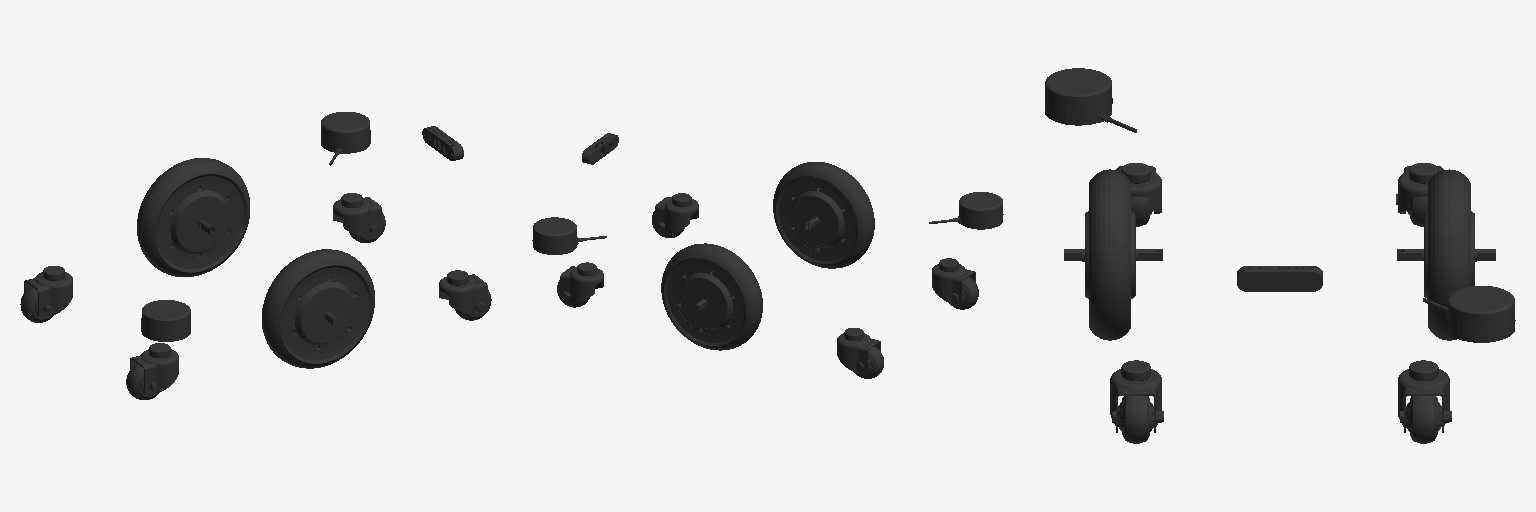
robot.urdf — chibot:
<?xml version="1.0" encoding="utf-8"?>
<!-- This URDF was automatically created by SolidWorks to URDF Exporter! Originally created by [author] ([email redacted]) 
     Commit Version: 1.6.0-4-g7f85cfe  Build Version: 1.6.7995.38578
     For more information, please see http://wiki.ros.org/sw_urdf_exporter -->
<robot
  name="chibot">

  <!-- name="xju" xmlns:xacro="http://ros.org/wiki/xacro">
  <xacro:include filename="$(find xju_simu)/urdf/xju_model.gazebo.xacro"/>
  <xacro:include filename="$(find xju_simu)/urdf/common_properties.xacro"/> -->

  <!-- base_footprint -->
  <link name="dummy"> 
  </link>
  <joint name="dummy_joint" type="fixed">
     <parent link="dummy"/>
     <child link="base_link"/>
  </joint>

  <!-- Body -->
  <link
    name="base_link">
    <inertial>
      <origin
        xyz="0.0044124 -0.00027975 0.1241"
        rpy="0 0 0" />
      <mass
        value="4.6045" />
      <inertia
        ixx="0.139"
        ixy="0.0011386"
        ixz="0.0064912"
        iyy="0.16792"
        iyz="9.8084E-05"
        izz="0.27613" />
    </inertial>
    <visual>
      <origin
        xyz="0 0 0"
        rpy="0 0 0" />
      <geometry>
        <mesh
          filename="package://chibot_simu/meshes/base_link.STL" />
      </geometry>
      <material
        name="">
        <color
          rgba="0.48627 0.48627 0.48627 1" />
      </material>
    </visual>
    <collision>
      <origin
        xyz="0 0 0"
        rpy="0 0 0" />
      <geometry>
        <mesh
          filename="package://chibot_simu/meshes/base_link.STL" />
      </geometry>
    </collision>
  </link>

  <!-- Wheel -->
  <link
    name="left_wheel_link">
    <inertial>
      <origin
        xyz="1.2292E-07 0.00016165 1.8491E-06"
        rpy="0 0 0" />
      <mass
        value="1.3933" />
      <inertia
        ixx="0.0033662"
        ixy="-2.9042E-10"
        ixz="4.652E-10"
        iyy="0.0061746"
        iyz="-5.8108E-08"
        izz="0.0033662" />
    </inertial>
    <visual>
      <origin
        xyz="0 0 0"
        rpy="0 0 0" />
      <geometry>
        <mesh
          filename="package://chibot_simu/meshes/left_wheel_link.STL" />
      </geometry>
      <material
        name="">
        <color
          rgba="0.25098 0.25098 0.25098 1" />
      </material>
    </visual>
    <collision>
      <origin
        xyz="0 0 0"
        rpy="0 0 0" />
      <geometry>
        <mesh
          filename="package://chibot_simu/meshes/left_wheel_link.STL" />
      </geometry>
    </collision>
  </link>
  <joint
    name="left_wheel_joint"
    type="continuous">
    <origin
      xyz="0 0.197750089477289 0.0657474186290643"
      rpy="0 0 0" />
    <parent
      link="base_link" />
    <child
      link="left_wheel_link" />
    <axis
      xyz="0 -1 0" />
    <!-- <safety_controller
      k_velocity="0" /> -->
  </joint>

  <link
    name="right_wheel_link">
    <inertial>
      <origin
        xyz="7.93745574977071E-08 -0.000161637742527587 1.87787913173698E-06"
        rpy="0 0 0" />
      <mass
        value="1.39328218611758" />
      <inertia
        ixx="0.00336620767487001"
        ixy="-2.90582469203531E-10"
        ixz="-4.65203502548127E-10"
        iyy="0.00617464497092101"
        iyz="5.81072376518096E-08"
        izz="0.00336617210974771" />
    </inertial>
    <visual>
      <origin
        xyz="0 0 0"
        rpy="0 0 0" />
      <geometry>
        <mesh
          filename="package://chibot_simu/meshes/right_wheel_link.STL" />
      </geometry>
      <material
        name="">
        <color
          rgba="0.250980392156863 0.250980392156863 0.250980392156863 1" />
      </material>
    </visual>
    <collision>
      <origin
        xyz="0 0 0"
        rpy="0 0 0" />
      <geometry>
        <mesh
          filename="package://chibot_simu/meshes/right_wheel_link.STL" />
      </geometry>
    </collision>
  </link>
  <joint
    name="right_wheel_joint"
    type="continuous">
    <origin
      xyz="0 -0.198170089477289 0.0657474186290642"
      rpy="0 0 0" />
    <parent
      link="base_link" />
    <child
      link="right_wheel_link" />
    <axis
      xyz="0 -1 0" />
    <!-- <safety_controller
      k_velocity="0" /> -->
  </joint>
  <link
    name="lf_caster_link">
    <inertial>
      <origin
        xyz="0.0065258 0.00029042 -0.018571"
        rpy="0 0 0" />
      <mass
        value="0.30041" />
      <inertia
        ixx="0.00020331"
        ixy="-1.7276E-06"
        ixz="3.8386E-05"
        iyy="0.00018743"
        iyz="2.5407E-06"
        izz="0.00019452" />
    </inertial>
    <visual>
      <origin
        xyz="0 0 0"
        rpy="0 0 0" />
      <geometry>
        <mesh
          filename="package://chibot_simu/meshes/lf_caster_link.STL" />
      </geometry>
      <material
        name="">
        <color
          rgba="0.25098 0.25098 0.25098 1" />
      </material>
    </visual>
    <collision>
      <origin
        xyz="0 0 0"
        rpy="0 0 0" />
      <geometry>
        <mesh
          filename="package://chibot_simu/meshes/lf_caster_link.STL" />
      </geometry>
    </collision>
  </link>
  <joint
    name="lf_caster_joint"
    type="continuous">
    <origin
      xyz="0.273 0.16775000000001 0.04495"
      rpy="0 0 0" />
    <parent
      link="base_link" />
    <child
      link="lf_caster_link" />
    <axis
      xyz="0 0 1" />
    <!-- <safety_controller
      k_velocity="0" /> -->
  </joint>
  <link
    name="lf_caster_link_">
    <inertial>
      <origin
        xyz="-3.0896E-07 -4.7895E-07 -1.2751E-09"
        rpy="0 0 0" />
      <mass
        value="0.09234" />
      <inertia
        ixx="2.7639E-05"
        ixy="2.5872E-11"
        ixz="5.199E-13"
        iyy="3.8572E-05"
        iyz="1.5634E-10"
        izz="2.766E-05" />
    </inertial>
    <visual>
      <origin
        xyz="0 0 0"
        rpy="0 0 0" />
      <geometry>
        <mesh
          filename="package://chibot_simu/meshes/lf_caster_link_.STL" />
      </geometry>
      <material
        name="">
        <color
          rgba="0.25098 0.25098 0.25098 1" />
      </material>
    </visual>
    <collision>
      <origin
        xyz="0 0 0"
        rpy="0 0 0" />
      <geometry>
        <mesh
          filename="package://chibot_simu/meshes/lf_caster_link_.STL" />
      </geometry>
    </collision>
  </link>
  <joint
    name="lf_caster_joint_"
    type="continuous">
    <origin
      xyz="0.026500000000015 0 -0.047700000000003"
      rpy="0 0 0" />
    <parent
      link="lf_caster_link" />
    <child
      link="lf_caster_link_" />
    <axis
      xyz="0 -1 0" />
    <!-- <safety_controller
      k_velocity="0" /> -->
  </joint>
  <link
    name="lb_caster_link">
    <inertial>
      <origin
        xyz="-0.0065258 -0.00029042 -0.018571"
        rpy="0 0 0" />
      <mass
        value="0.30041" />
      <inertia
        ixx="0.00020331"
        ixy="-1.7276E-06"
        ixz="-3.8386E-05"
        iyy="0.00018743"
        iyz="-2.5407E-06"
        izz="0.00019452" />
    </inertial>
    <visual>
      <origin
        xyz="0 0 0"
        rpy="0 0 0" />
      <geometry>
        <mesh
          filename="package://chibot_simu/meshes/lb_caster_link.STL" />
      </geometry>
      <material
        name="">
        <color
          rgba="0.25098 0.25098 0.25098 1" />
      </material>
    </visual>
    <collision>
      <origin
        xyz="0 0 0"
        rpy="0 0 0" />
      <geometry>
        <mesh
          filename="package://chibot_simu/meshes/lb_caster_link.STL" />
      </geometry>
    </collision>
  </link>
  <joint
    name="lb_caster_joint"
    type="continuous">
    <origin
      xyz="-0.273 0.16775000000001 0.04495"
      rpy="0 0 0" />
    <parent
      link="base_link" />
    <child
      link="lb_caster_link" />
    <axis
      xyz="0 0 1" />
    <!-- <safety_controller
      k_velocity="0" /> -->
  </joint>
  <link
    name="lb_caster_link_">
    <inertial>
      <origin
        xyz="3.0896E-07 4.7895E-07 -1.2751E-09"
        rpy="0 0 0" />
      <mass
        value="0.09234" />
      <inertia
        ixx="2.7639E-05"
        ixy="2.5872E-11"
        ixz="-5.199E-13"
        iyy="3.8572E-05"
        iyz="-1.5634E-10"
        izz="2.766E-05" />
    </inertial>
    <visual>
      <origin
        xyz="0 0 0"
        rpy="0 0 0" />
      <geometry>
        <mesh
          filename="package://chibot_simu/meshes/lb_caster_link_.STL" />
      </geometry>
      <material
        name="">
        <color
          rgba="0.25098 0.25098 0.25098 1" />
      </material>
    </visual>
    <collision>
      <origin
        xyz="0 0 0"
        rpy="0 0 0" />
      <geometry>
        <mesh
          filename="package://chibot_simu/meshes/lb_caster_link_.STL" />
      </geometry>
    </collision>
  </link>
  <joint
    name="lb_caster_joint_"
    type="continuous">
    <origin
      xyz="-0.0265000000000149 0 -0.047700000000003"
      rpy="0 0 0" />
    <parent
      link="lb_caster_link" />
    <child
      link="lb_caster_link_" />
    <axis
      xyz="0 1 0" />
    <!-- <safety_controller
      k_velocity="0" /> -->
  </joint>
  <link
    name="rb_caster_link">
    <inertial>
      <origin
        xyz="-0.0065258 -0.00029042 -0.018571"
        rpy="0 0 0" />
      <mass
        value="0.30041" />
      <inertia
        ixx="0.00020331"
        ixy="-1.7276E-06"
        ixz="-3.8386E-05"
        iyy="0.00018743"
        iyz="-2.5407E-06"
        izz="0.00019452" />
    </inertial>
    <visual>
      <origin
        xyz="0 0 0"
        rpy="0 0 0" />
      <geometry>
        <mesh
          filename="package://chibot_simu/meshes/rb_caster_link.STL" />
      </geometry>
      <material
        name="">
        <color
          rgba="0.25098 0.25098 0.25098 1" />
      </material>
    </visual>
    <collision>
      <origin
        xyz="0 0 0"
        rpy="0 0 0" />
      <geometry>
        <mesh
          filename="package://chibot_simu/meshes/rb_caster_link.STL" />
      </geometry>
    </collision>
  </link>
  <joint
    name="rb_caster_joint"
    type="continuous">
    <origin
      xyz="-0.273 -0.16774999999999 0.04495"
      rpy="0 0 0" />
    <parent
      link="base_link" />
    <child
      link="rb_caster_link" />
    <axis
      xyz="0 0 1" />
    <!-- <safety_controller
      k_velocity="0" /> -->
  </joint>
  <link
    name="rb_caster_link_">
    <inertial>
      <origin
        xyz="3.0896E-07 4.7895E-07 -1.2751E-09"
        rpy="0 0 0" />
      <mass
        value="0.09234" />
      <inertia
        ixx="2.7639E-05"
        ixy="2.5872E-11"
        ixz="-5.199E-13"
        iyy="3.8572E-05"
        iyz="-1.5634E-10"
        izz="2.766E-05" />
    </inertial>
    <visual>
      <origin
        xyz="0 0 0"
        rpy="0 0 0" />
      <geometry>
        <mesh
          filename="package://chibot_simu/meshes/rb_caster_link_.STL" />
      </geometry>
      <material
        name="">
        <color
          rgba="0.25098 0.25098 0.25098 1" />
      </material>
    </visual>
    <collision>
      <origin
        xyz="0 0 0"
        rpy="0 0 0" />
      <geometry>
        <mesh
          filename="package://chibot_simu/meshes/rb_caster_link_.STL" />
      </geometry>
    </collision>
  </link>
  <joint
    name="rb_caster_joint_"
    type="continuous">
    <origin
      xyz="-0.0265000000000149 0 -0.047700000000003"
      rpy="0 0 0" />
    <parent
      link="rb_caster_link" />
    <child
      link="rb_caster_link_" />
    <axis
      xyz="0 1 0" />
    <!-- <safety_controller
      k_velocity="0" /> -->
  </joint>
  <link
    name="rf_caster_link">
    <inertial>
      <origin
        xyz="0.0065258 0.00029042 -0.018571"
        rpy="0 0 0" />
      <mass
        value="0.30041" />
      <inertia
        ixx="0.00020331"
        ixy="-1.7276E-06"
        ixz="3.8386E-05"
        iyy="0.00018743"
        iyz="2.5407E-06"
        izz="0.00019452" />
    </inertial>
    <visual>
      <origin
        xyz="0 0 0"
        rpy="0 0 0" />
      <geometry>
        <mesh
          filename="package://chibot_simu/meshes/rf_caster_link.STL" />
      </geometry>
      <material
        name="">
        <color
          rgba="0.25098 0.25098 0.25098 1" />
      </material>
    </visual>
    <collision>
      <origin
        xyz="0 0 0"
        rpy="0 0 0" />
      <geometry>
        <mesh
          filename="package://chibot_simu/meshes/rf_caster_link.STL" />
      </geometry>
    </collision>
  </link>
  <joint
    name="rf_caster_joint"
    type="continuous">
    <origin
      xyz="0.273 -0.16774999999999 0.04495"
      rpy="0 0 0" />
    <parent
      link="base_link" />
    <child
      link="rf_caster_link" />
    <axis
      xyz="0 0 1" />
    <!-- <safety_controller
      k_velocity="0" /> -->
  </joint>
  <link
    name="rf_caster_link_">
    <inertial>
      <origin
        xyz="-3.0896E-07 -4.7895E-07 -1.2751E-09"
        rpy="0 0 0" />
      <mass
        value="0.09234" />
      <inertia
        ixx="2.7639E-05"
        ixy="2.5872E-11"
        ixz="5.199E-13"
        iyy="3.8572E-05"
        iyz="1.5634E-10"
        izz="2.766E-05" />
    </inertial>
    <visual>
      <origin
        xyz="0 0 0"
        rpy="0 0 0" />
      <geometry>
        <mesh
          filename="package://chibot_simu/meshes/rf_caster_link_.STL" />
      </geometry>
      <material
        name="">
        <color
          rgba="0.25098 0.25098 0.25098 1" />
      </material>
    </visual>
    <collision>
      <origin
        xyz="0 0 0"
        rpy="0 0 0" />
      <geometry>
        <mesh
          filename="package://chibot_simu/meshes/rf_caster_link_.STL" />
      </geometry>
    </collision>
  </link>
  <joint
    name="rf_caster_joint_"
    type="continuous">
    <origin
      xyz="0.026500000000015 0 -0.047700000000003"
      rpy="0 0 0" />
    <parent
      link="rf_caster_link" />
    <child
      link="rf_caster_link_" />
    <axis
      xyz="0 -1 0" />
    <!-- <safety_controller
      k_velocity="0" /> -->
  </joint>

  <!-- camera -->
  <link
    name="camera_link">
    <inertial>
      <origin
        xyz="-0.00072931 -7.4658E-05 5.3381E-09"
        rpy="0 0 0" />
      <mass
        value="0.012349" />
      <inertia
        ixx="1.1825E-05"
        ixy="2.2026E-09"
        ixz="-1.4419E-09"
        iyy="1.0732E-06"
        iyz="4.0858E-09"
        izz="1.1073E-05" />
    </inertial>
    <visual>
      <origin
        xyz="0 0 0"
        rpy="0 0 0" />
      <geometry>
        <mesh
          filename="package://chibot_simu/meshes/camera_link.STL" />
      </geometry>
      <material
        name="">
        <color
          rgba="0.25098 0.25098 0.25098 1" />
      </material>
    </visual>
    <collision>
      <origin
        xyz="0 0 0"
        rpy="0 0 0" />
      <geometry>
        <mesh
          filename="package://chibot_simu/meshes/camera_link.STL" />
      </geometry>
    </collision>
  </link>
  <joint
    name="camera_joint"
    type="fixed">
    <origin
      xyz="0.34295 0 0.19530000000001"
      rpy="0 0 0" />
    <parent
      link="base_link" />
    <child
      link="camera_link" />
    <axis
      xyz="0 0 0" />
    <!-- <safety_controller
      k_velocity="0" /> -->
  </joint>

  <!-- lindar -->
  <link
    name="front_lidar_link">
    <inertial>
      <origin
        xyz="-0.0017871 -0.0017877 -0.00659"
        rpy="0 0 0" />
      <mass
        value="0.037433" />
      <inertia
        ixx="3.0835E-05"
        ixy="-2.7811E-06"
        ixz="-7.5749E-07"
        iyy="3.0833E-05"
        iyz="-7.5707E-07"
        izz="4.5089E-05" />
    </inertial>
    <visual>
      <origin
        xyz="0 0 0"
        rpy="0 0 0" />
      <geometry>
        <mesh
          filename="package://chibot_simu/meshes/front_lidar_link.STL" />
      </geometry>
      <material
        name="">
        <color
          rgba="0.25098 0.25098 0.25098 1" />
      </material>
    </visual>
    <collision>
      <origin
        xyz="0 0 0"
        rpy="0 0 0" />
      <geometry>
        <mesh
          filename="package://chibot_simu/meshes/front_lidar_link.STL" />
      </geometry>
    </collision>
  </link>
  <joint
    name="front_lidar_joint"
    type="fixed">
    <origin
      xyz="0.300013952515174 0.235013952502531 0.134697082760281"
      rpy="0 0 0" />
    <parent
      link="base_link" />
    <child
      link="front_lidar_link" />
    <axis
      xyz="0 0 0" />
    <!-- <safety_controller
      k_velocity="0" /> -->
  </joint>
  <link
    name="back_lidar_link">
    <inertial>
      <origin
        xyz="0.0017874 0.0017874 -0.0065902"
        rpy="0 0 0" />
      <mass
        value="0.037433" />
      <inertia
        ixx="3.0833E-05"
        ixy="-2.7807E-06"
        ixz="7.5712E-07"
        iyy="3.0834E-05"
        iyz="7.5751E-07"
        izz="4.5087E-05" />
    </inertial>
    <visual>
      <origin
        xyz="0 0 0"
        rpy="0 0 0" />
      <geometry>
        <mesh
          filename="package://chibot_simu/meshes/back_lidar_link.STL" />
      </geometry>
      <material
        name="">
        <color
          rgba="0.25098 0.25098 0.25098 1" />
      </material>
    </visual>
    <collision>
      <origin
        xyz="0 0 0"
        rpy="0 0 0" />
      <geometry>
        <mesh
          filename="package://chibot_simu/meshes/back_lidar_link.STL" />
      </geometry>
    </collision>
  </link>
  <joint
    name="back_lidar_joint"
    type="fixed">
    <origin
      xyz="-0.300013952515174 -0.235013952502531 0.134697082760281"
      rpy="0 0 0" />
    <parent
      link="base_link" />
    <child
      link="back_lidar_link" />
    <axis
      xyz="0 0 0" />
    <!-- <safety_controller
      k_velocity="0" /> -->
  </joint>

  <!-- IMU -->
  <link name="imu_link"/>
  <joint
    name="joint_imu"
    type="fixed">
    <origin
      xyz="0 0 0"
      rpy="0 0 0" />
    <parent
      link="base_link" />
    <child
      link="imu_link" />
    <axis
      xyz="0 0 0" />
    <safety_controller
      k_velocity="0" />
  </joint>

</robot>

--- Render facts (derived) ---
3 views of the same robot in one strip: view 1: azimuth 30°, elevation 25°; view 2: azimuth 150°, elevation 25°; view 3: azimuth 270°, elevation 25° (orthographic).
Robot: chibot — 16 links, 15 joints (10 continuous, 5 fixed); root link dummy; default pose: every joint at zero.
Visible links, largest first — view 1: right_wheel_link, left_wheel_link, front_lidar_link, back_lidar_link, lf_caster_link, rf_caster_link, lb_caster_link, rb_caster_link, camera_link, rb_caster_link_, lb_caster_link_; view 2: left_wheel_link, right_wheel_link, front_lidar_link, back_lidar_link, rf_caster_link, lf_caster_link, rb_caster_link, lb_caster_link, camera_link; view 3: right_wheel_link, left_wheel_link, back_lidar_link, front_lidar_link, camera_link, lf_caster_link, rf_caster_link, lf_caster_link_, rf_caster_link_, lb_caster_link, rb_caster_link.
Link boxes in pixels (box(x1,y1,x2,y2)): right_wheel_link: box(262, 249, 374, 368); left_wheel_link: box(137, 158, 249, 276); front_lidar_link: box(321, 112, 370, 165); back_lidar_link: box(141, 300, 190, 341); lf_caster_link: box(333, 193, 381, 238); rf_caster_link: box(439, 270, 487, 315); lb_caster_link: box(24, 266, 72, 319); rb_caster_link: box(130, 343, 178, 396); camera_link: box(422, 126, 463, 160); rb_caster_link_: box(126, 364, 158, 399); lb_caster_link_: box(20, 286, 52, 322); left_wheel_link: box(661, 243, 762, 350); right_wheel_link: box(773, 162, 874, 268); front_lidar_link: box(532, 217, 606, 254); back_lidar_link: box(929, 192, 1003, 229); rf_caster_link: box(655, 193, 698, 234); lf_caster_link: box(560, 262, 603, 303); rb_caster_link: box(932, 258, 975, 306); lb_caster_link: box(837, 328, 880, 375); camera_link: box(582, 133, 618, 164); right_wheel_link: box(1064, 169, 1162, 340); left_wheel_link: box(1397, 169, 1495, 340); back_lidar_link: box(1045, 68, 1136, 132); front_lidar_link: box(1423, 286, 1515, 342); camera_link: box(1237, 266, 1322, 291); lf_caster_link: box(1398, 360, 1451, 432); rf_caster_link: box(1110, 360, 1163, 432); lf_caster_link_: box(1406, 396, 1441, 443); rf_caster_link_: box(1118, 396, 1153, 443); lb_caster_link: box(1396, 163, 1443, 213); rb_caster_link: box(1116, 163, 1161, 213).
Bounding box of the posed robot: 0.6916 × 0.5495 × 0.2424 m (x, y, z).
13 mesh visuals loaded from 14 distinct referenced files (13 binary STL); not drawn: 1 (reference not matched to a file when rendering).
